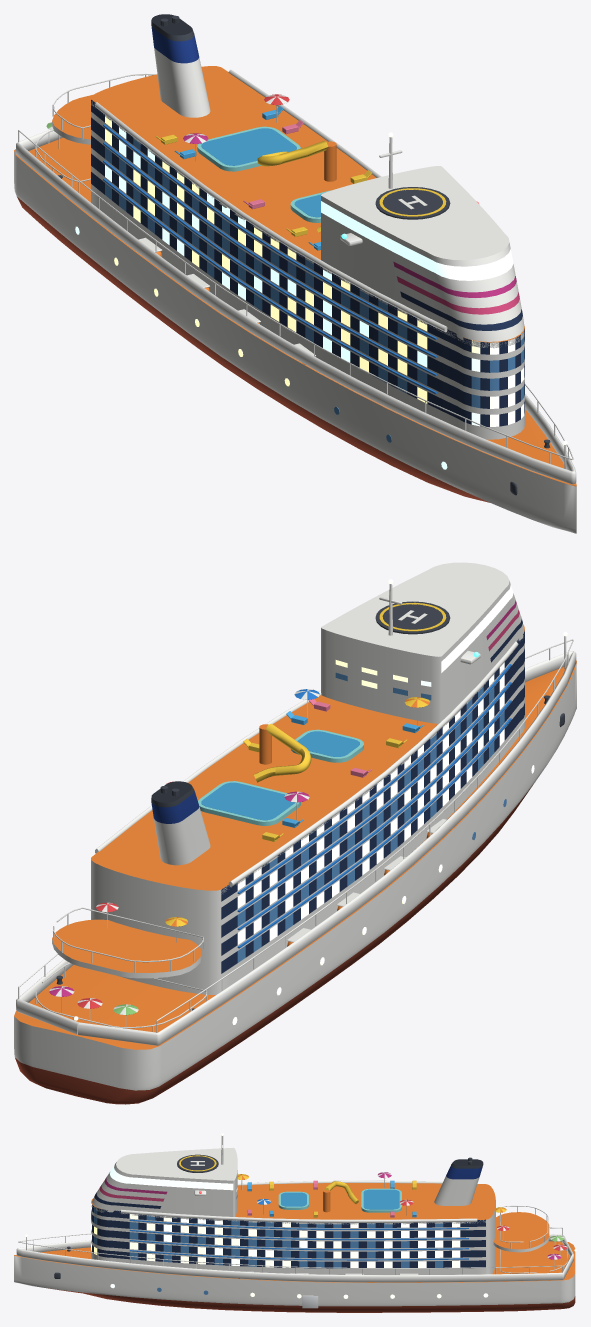
Rendered from navio_cruzeiro.glb.
3 renders of one model, top to bottom at view 1: azimuth 30°, elevation 25°; view 2: azimuth 150°, elevation 25°; view 3: azimuth 270°, elevation 25°, orthographic. The views are drawn at different scales.
Parts seen in each view (by area): view 1: navio_cruzeiro; view 2: navio_cruzeiro; view 3: navio_cruzeiro.
Part boxes in pixels (x1,y1,x2,y2): navio_cruzeiro: (14,14,576,533); navio_cruzeiro: (14,562,576,1104); navio_cruzeiro: (14,1133,576,1312).
Bounding box in the file's own units: 15.05 × 24.78 × 77.98.
8 materials, 1 textured.
